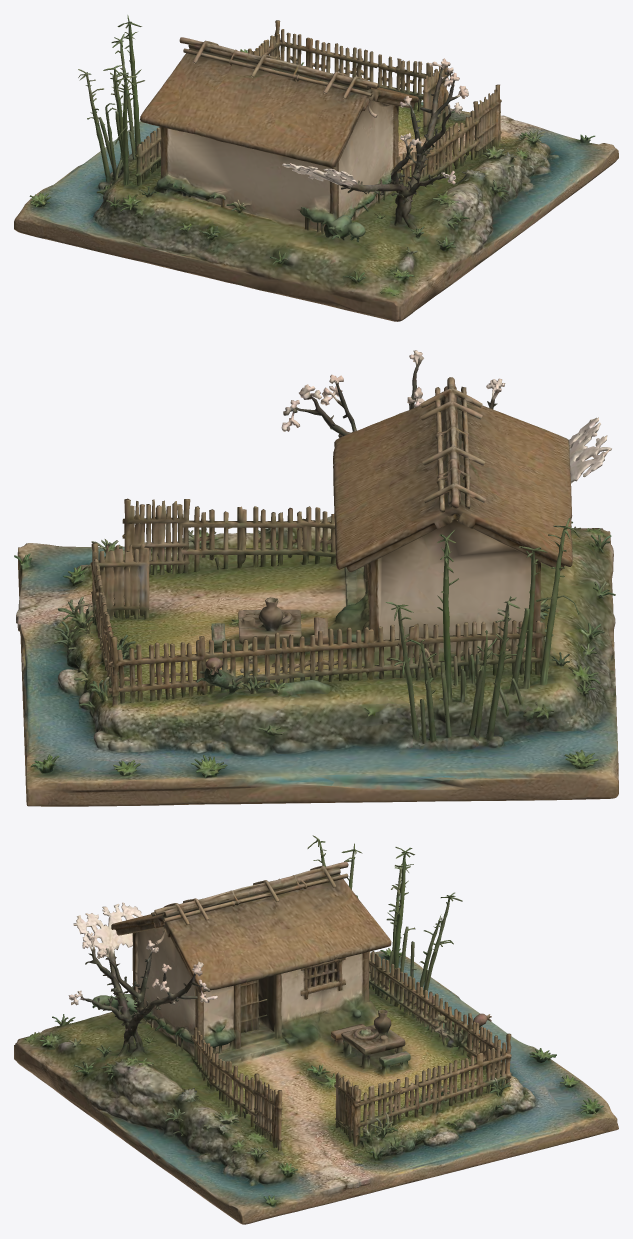
The picture shows the model from 3 angles, top to bottom: view 1: azimuth 30°, elevation 25°; view 2: azimuth 150°, elevation 25°; view 3: azimuth 270°, elevation 25°; orthographic projection. The views are drawn at different scales.
Parts seen in each view (by area): view 1: tripo_node_bca8f5a8-335c-48ec-adab-3b7fe758dcc4; view 2: tripo_node_bca8f5a8-335c-48ec-adab-3b7fe758dcc4; view 3: tripo_node_bca8f5a8-335c-48ec-adab-3b7fe758dcc4.
Part boxes in pixels (bbox=[...]): tripo_node_bca8f5a8-335c-48ec-adab-3b7fe758dcc4: bbox=[14, 15, 618, 321]; tripo_node_bca8f5a8-335c-48ec-adab-3b7fe758dcc4: bbox=[14, 350, 618, 806]; tripo_node_bca8f5a8-335c-48ec-adab-3b7fe758dcc4: bbox=[14, 835, 618, 1224].
Bounding box in the file's own units: 1.3 × 0.429 × 1.29.
1 material, 1 textured.
